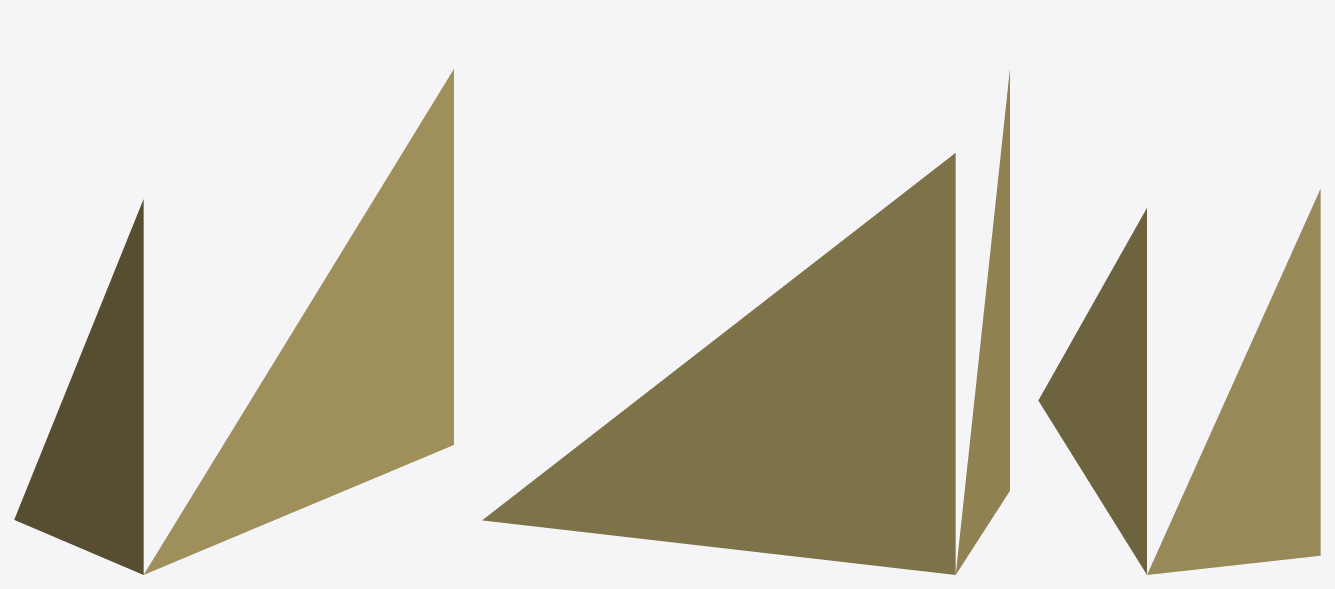
The picture shows the model from 3 angles, left to right: view 1: azimuth 30°, elevation 25°; view 2: azimuth 150°, elevation 25°; view 3: azimuth 270°, elevation 25°; orthographic projection. The views are drawn at different scales.
Size of the model in its own units: 59.42 by 52.5 by 36.58.
